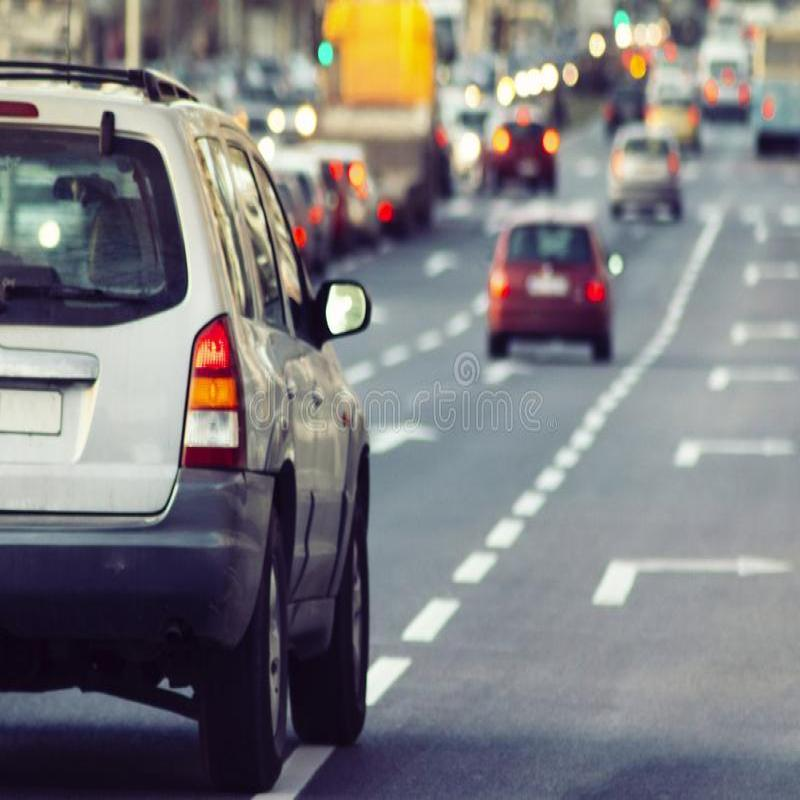car: (0, 84, 370, 800), (489, 202, 610, 370)
